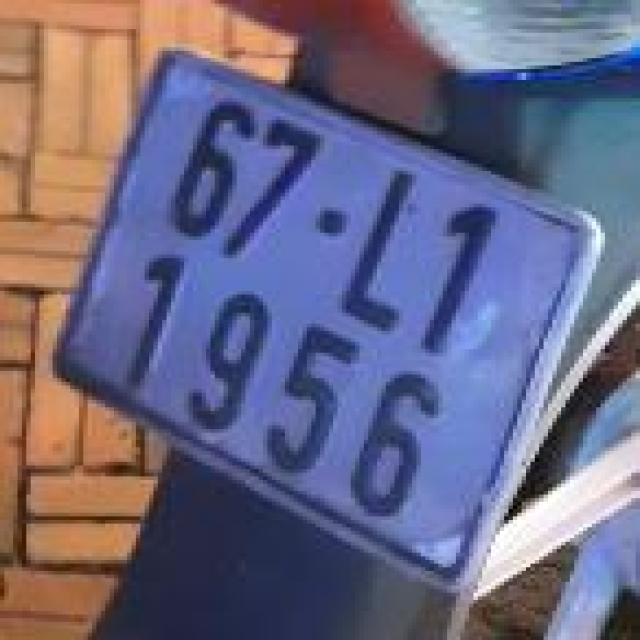1: (393, 185, 529, 375), (97, 238, 213, 407)
5: (250, 309, 380, 495)
6: (336, 356, 456, 533), (158, 85, 272, 251)
7: (211, 102, 340, 278)
9: (169, 276, 296, 451)
L: (323, 149, 465, 345)
